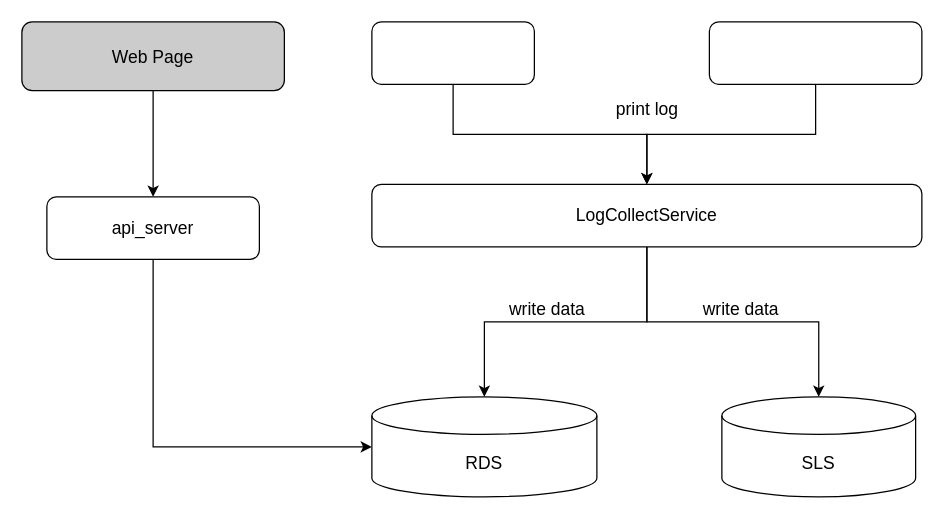
This 944x519 diagram has some shape labels left out. Each missing label, with the centre of its shape:
healing_labor_service: [815,52]
healing_service: [452,52]
